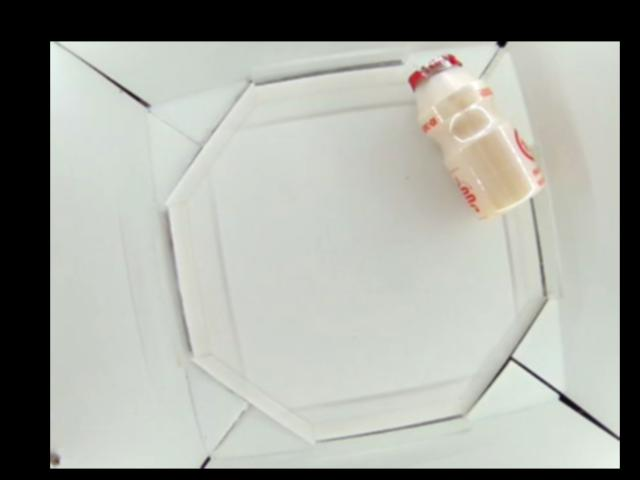Bottle: (412, 51, 547, 216)
